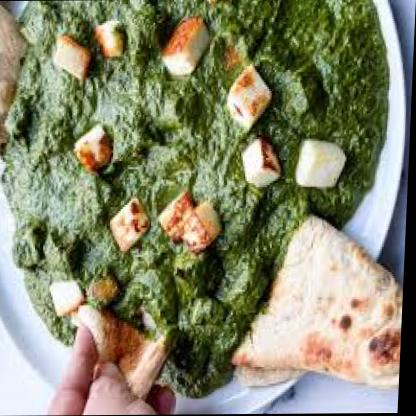palak_paneer: (0, 0, 394, 398)
